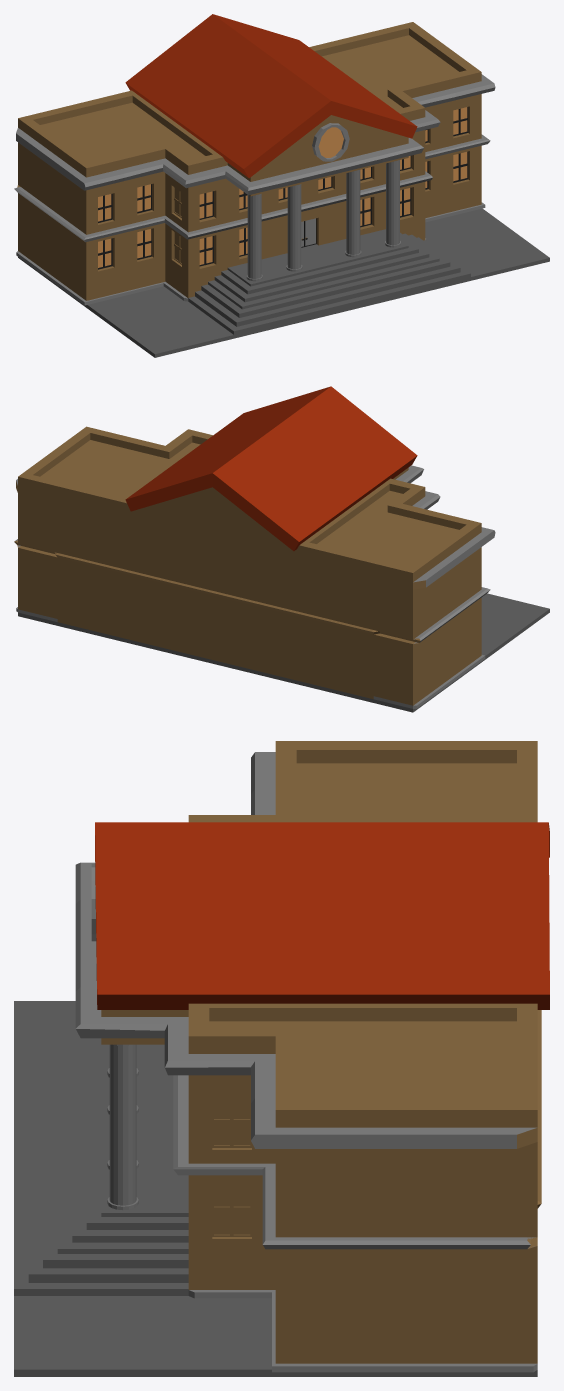
The model's file is Tawnhall.fbx.
3 views of the same model, one above another, from view 1: azimuth 30°, elevation 25°; view 2: azimuth 150°, elevation 25°; view 3: azimuth 270°, elevation 25° (orthographic). The views are drawn at different scales.
Parts seen in each view (by area): view 1: Tawnhall; view 2: Tawnhall; view 3: Tawnhall.
Part boxes in pixels (box(x1,y1,x2,y2)): Tawnhall: box(14, 14, 549, 357); Tawnhall: box(14, 386, 549, 712); Tawnhall: box(14, 741, 549, 1376).
Bounding box in the file's own units: 1038 × 468 × 614.
